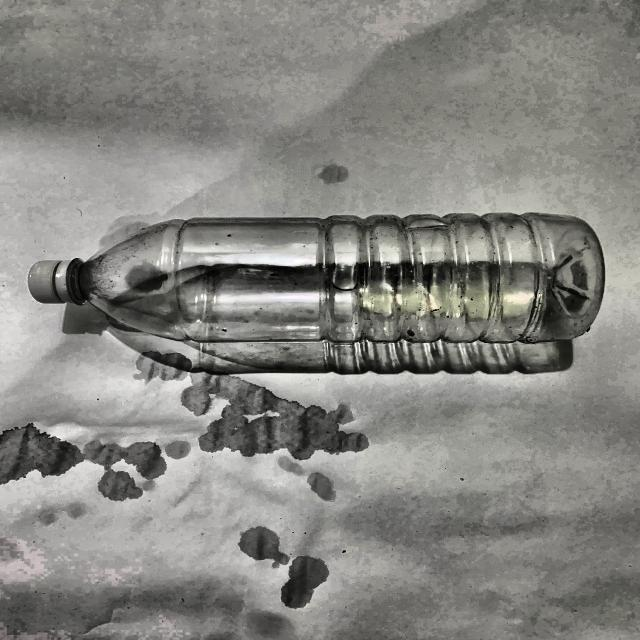Bottles: (22, 213, 634, 347)
